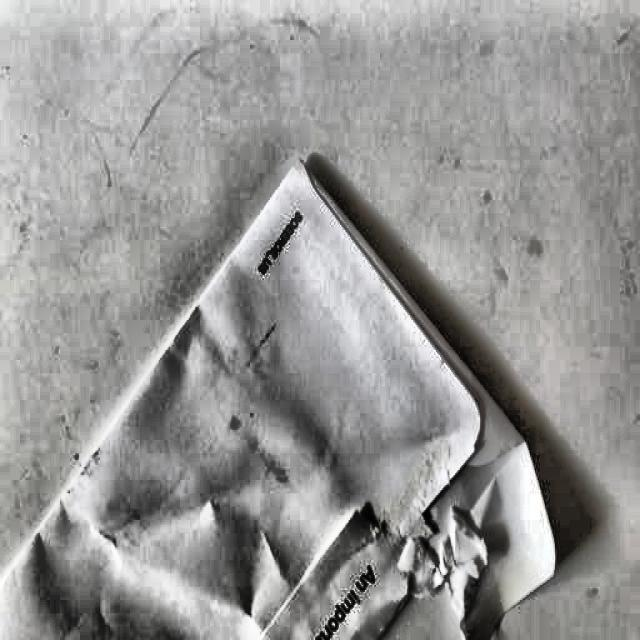paper: (15, 166, 559, 624)
